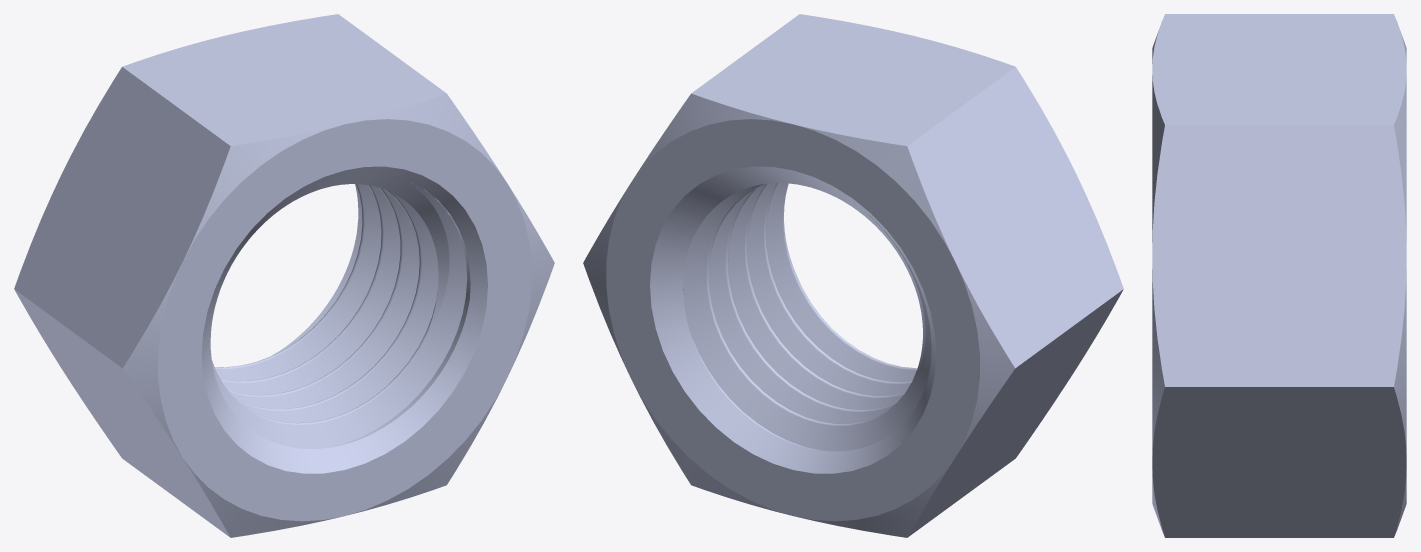
File: porca_escalada.dae
3 views of the same model, side by side, from view 1: azimuth 30°, elevation 25°; view 2: azimuth 150°, elevation 25°; view 3: azimuth 270°, elevation 25° (orthographic). The views are drawn at different scales.
Visible parts, largest first — view 1: node_65713238_5be8_4bd8_ab48_6e18a96cdd93_mesh0; view 2: node_65713238_5be8_4bd8_ab48_6e18a96cdd93_mesh0; view 3: node_65713238_5be8_4bd8_ab48_6e18a96cdd93_mesh0.
Part boxes in pixels (<box>): node_65713238_5be8_4bd8_ab48_6e18a96cdd93_mesh0: <box>14,14,554,537</box>; node_65713238_5be8_4bd8_ab48_6e18a96cdd93_mesh0: <box>583,14,1123,537</box>; node_65713238_5be8_4bd8_ab48_6e18a96cdd93_mesh0: <box>1152,14,1406,537</box>.
Bounding box in the file's own units: 0.00483 × 0.00418 × 0.00234.
